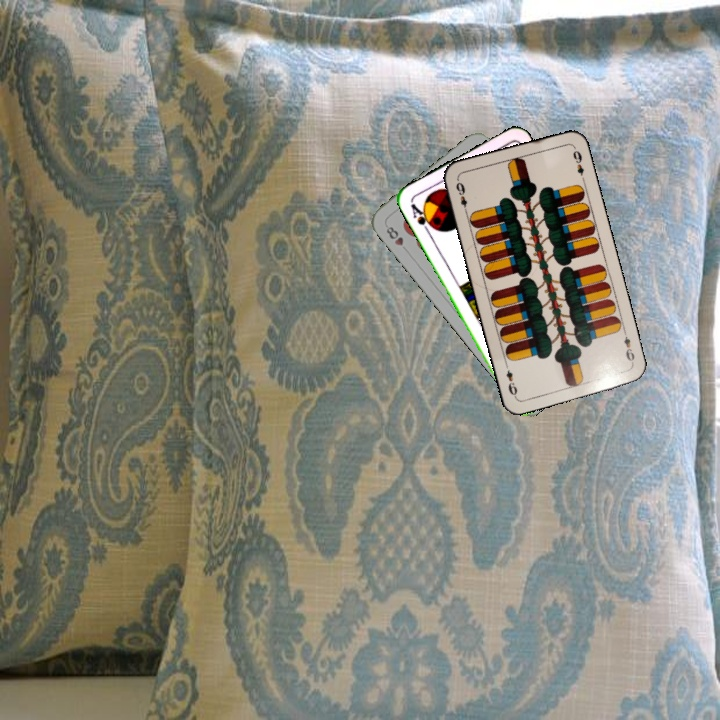E9: (452, 176, 470, 216), (620, 327, 637, 367)
H8: (382, 222, 411, 255)
SA: (406, 199, 438, 236)
